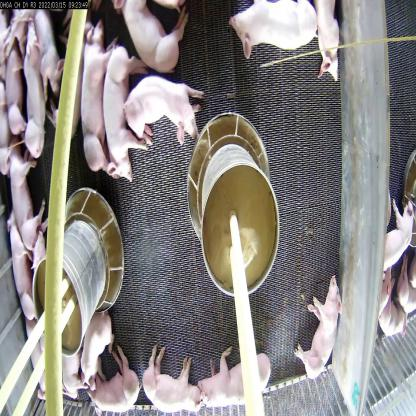Pig: (99, 40, 148, 198), (75, 17, 119, 190), (0, 147, 55, 278), (231, 0, 326, 68), (116, 0, 196, 76), (125, 79, 209, 150), (14, 26, 52, 175), (138, 344, 213, 415), (298, 280, 348, 384), (365, 188, 416, 277), (196, 352, 265, 415), (30, 0, 72, 100), (77, 312, 121, 404), (6, 205, 35, 339), (308, 5, 351, 91), (91, 356, 146, 416)
